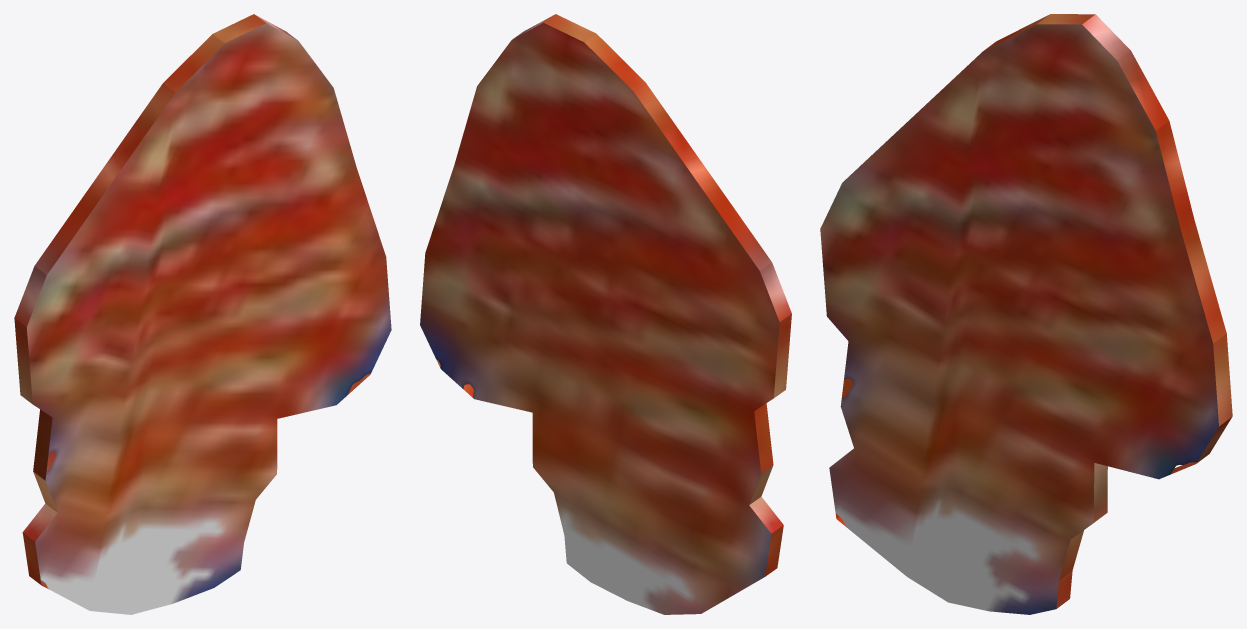
Rendered from Balao-1.fbx.
3 views of the same model, side by side, from view 1: azimuth 30°, elevation 25°; view 2: azimuth 150°, elevation 25°; view 3: azimuth 330°, elevation 25° (orthographic). The views are drawn at different scales.
Visible parts, largest first — view 1: Circle.005; view 2: Circle.005; view 3: Circle.005.
Part boxes in pixels (left/top/right/bottom): Circle.005: left=14, top=14, right=391, bottom=614; Circle.005: left=420, top=14, right=791, bottom=614; Circle.005: left=820, top=14, right=1232, bottom=614.
Bounding box in the file's own units: 21.89 × 32.4 × 2.16.
Materials: 1 (1 with a texture image).
